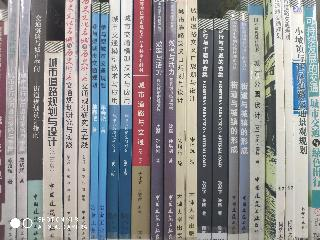book-spine: (26, 0, 47, 239), (299, 1, 320, 239), (132, 1, 151, 239), (290, 1, 308, 239), (43, 42, 62, 239), (249, 0, 264, 240), (280, 0, 295, 239), (213, 20, 228, 239), (198, 20, 213, 238), (78, 1, 91, 240), (5, 2, 18, 240), (119, 1, 132, 239), (151, 1, 164, 239), (17, 1, 29, 240), (272, 1, 284, 240), (65, 1, 77, 239), (108, 1, 120, 239), (175, 1, 186, 239), (186, 1, 197, 239), (165, 1, 175, 239), (229, 11, 238, 240), (239, 12, 248, 239), (91, 3, 99, 240), (99, 3, 107, 240)
